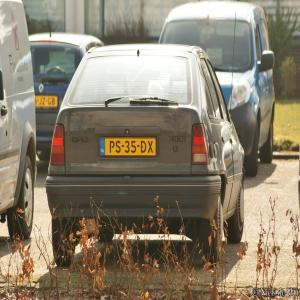Vehicle-registration-plate: (101, 136, 158, 158), (36, 96, 59, 109)
